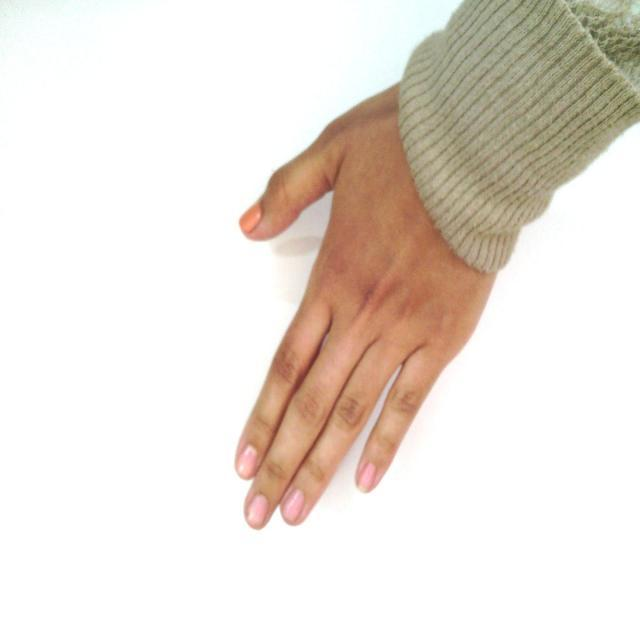Fingernail: (282, 489, 304, 524), (247, 494, 269, 528), (240, 202, 263, 234), (238, 445, 257, 479), (358, 464, 376, 492)
